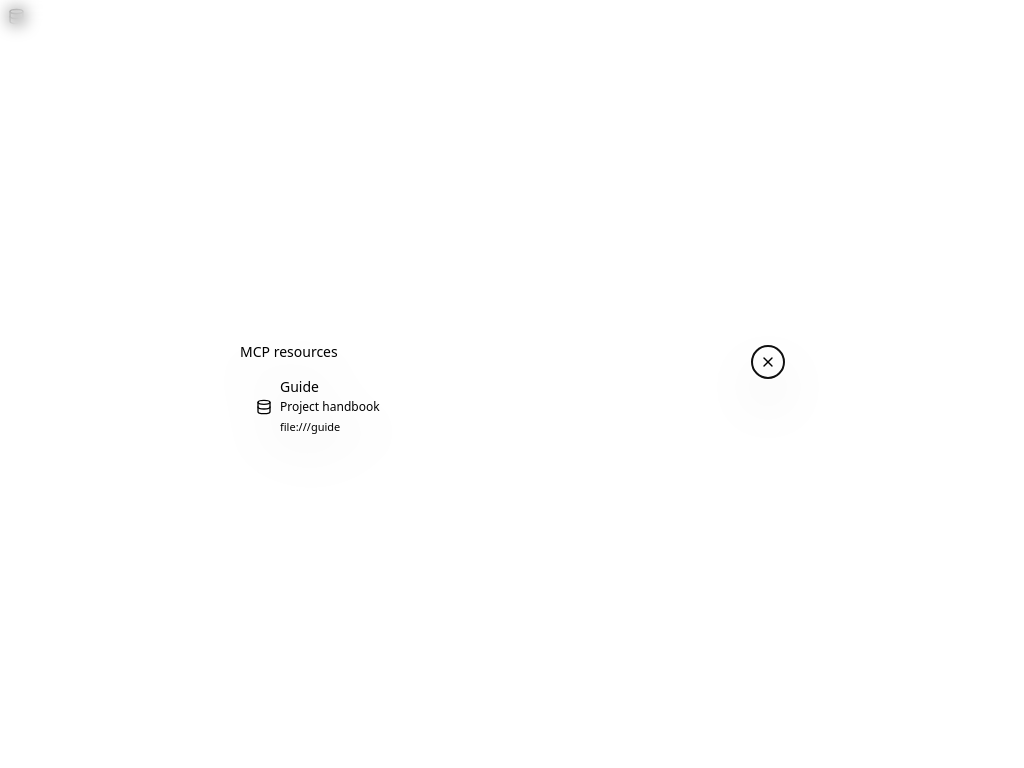
Test: MCP picker workflows › keeps resource selection open after resolution fails
Click the button "Guide Project handbook file:///guide".
click(330, 406)  # box [232, 382, 792, 430]
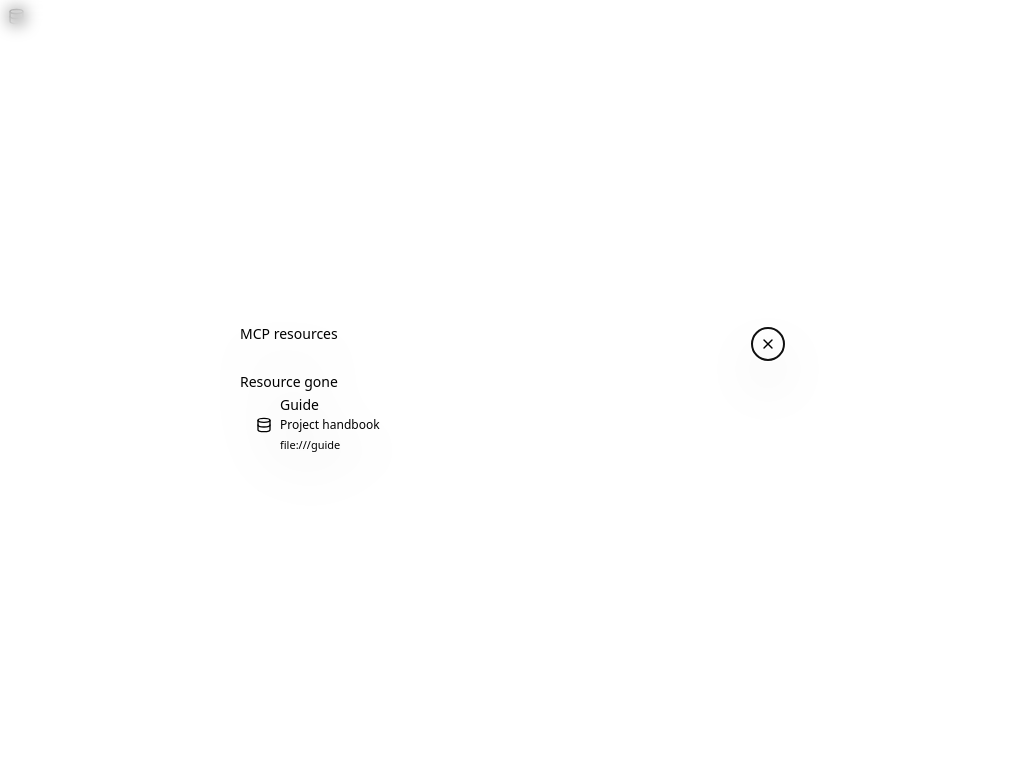
Expected: the button "Guide Project handbook file:///guide" is enabled, [232, 400, 792, 448]
Now the message "Resource gone" is shown, box [240, 372, 338, 391]
